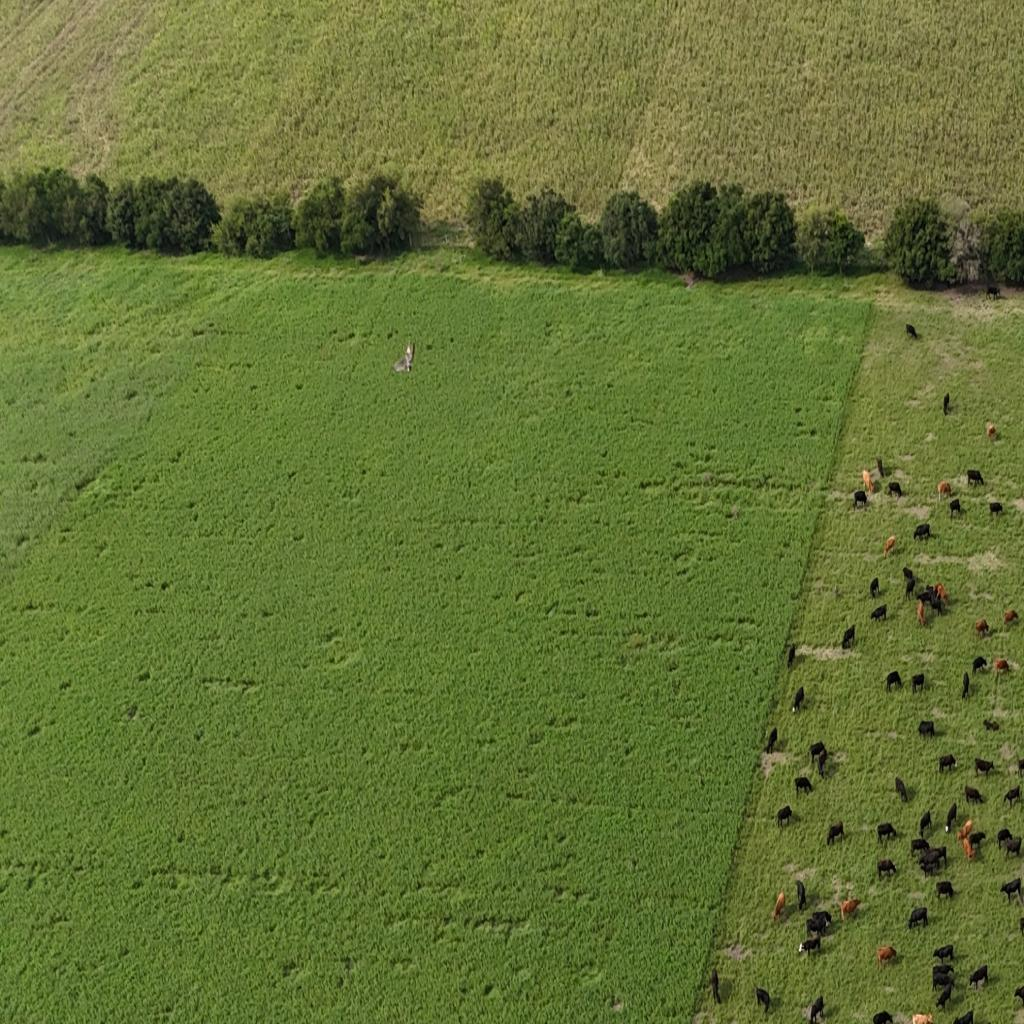cow: (797, 930, 826, 963), (997, 827, 1022, 859), (918, 848, 945, 877), (804, 906, 838, 928), (1000, 879, 1022, 905), (877, 945, 898, 970), (969, 965, 989, 991), (808, 994, 825, 1024), (908, 906, 929, 930), (956, 819, 974, 844), (984, 712, 1002, 737), (936, 982, 952, 1010), (877, 822, 898, 843), (840, 898, 860, 920), (877, 858, 897, 880), (809, 738, 828, 761), (916, 591, 935, 614), (827, 822, 845, 846), (755, 986, 770, 1014), (933, 943, 954, 963), (910, 837, 930, 858), (1007, 754, 1023, 780), (974, 756, 994, 776), (965, 785, 984, 806), (1003, 786, 1021, 808), (773, 890, 785, 922), (968, 829, 987, 849), (936, 880, 954, 901), (993, 658, 1011, 679), (895, 776, 909, 802), (919, 810, 932, 838), (814, 750, 828, 776), (710, 968, 720, 1004), (939, 753, 957, 773), (945, 803, 957, 833), (934, 582, 949, 606), (885, 671, 902, 692), (842, 625, 856, 650), (870, 604, 887, 624), (862, 468, 874, 496), (953, 1008, 974, 1024), (777, 806, 792, 828), (796, 879, 806, 912), (766, 727, 778, 754), (967, 469, 985, 487), (918, 720, 935, 739), (794, 776, 811, 795), (972, 656, 988, 676), (914, 522, 930, 542), (963, 838, 976, 862), (853, 490, 868, 510), (793, 685, 804, 712), (888, 481, 904, 499), (872, 1011, 894, 1024), (911, 672, 925, 692), (1013, 835, 1024, 860), (1003, 609, 1019, 626), (884, 535, 896, 557), (905, 577, 916, 601), (912, 1012, 934, 1024), (1009, 1000, 1021, 1022), (949, 498, 962, 518), (975, 619, 989, 637), (916, 600, 925, 628), (962, 670, 970, 701), (989, 502, 1003, 518), (986, 286, 1002, 300), (938, 482, 952, 498), (787, 644, 796, 668), (903, 566, 915, 584), (870, 577, 880, 598), (906, 323, 918, 340), (876, 456, 884, 480), (943, 392, 950, 416), (972, 1015, 990, 1024), (986, 423, 996, 439), (1018, 983, 1024, 1007)
